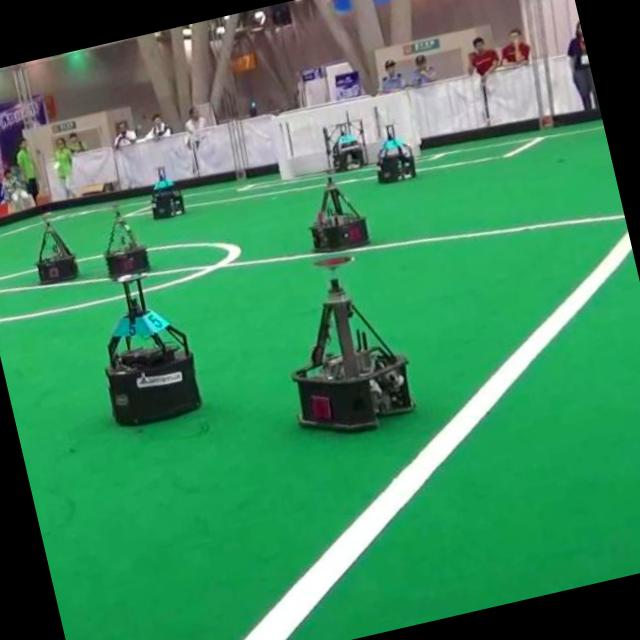goal: (271, 115, 294, 180), (399, 90, 422, 155)
robot: (292, 279, 412, 430), (105, 277, 200, 424), (310, 177, 369, 251), (104, 210, 150, 280), (323, 111, 369, 172), (36, 220, 77, 283), (376, 124, 415, 182), (151, 166, 184, 218)
